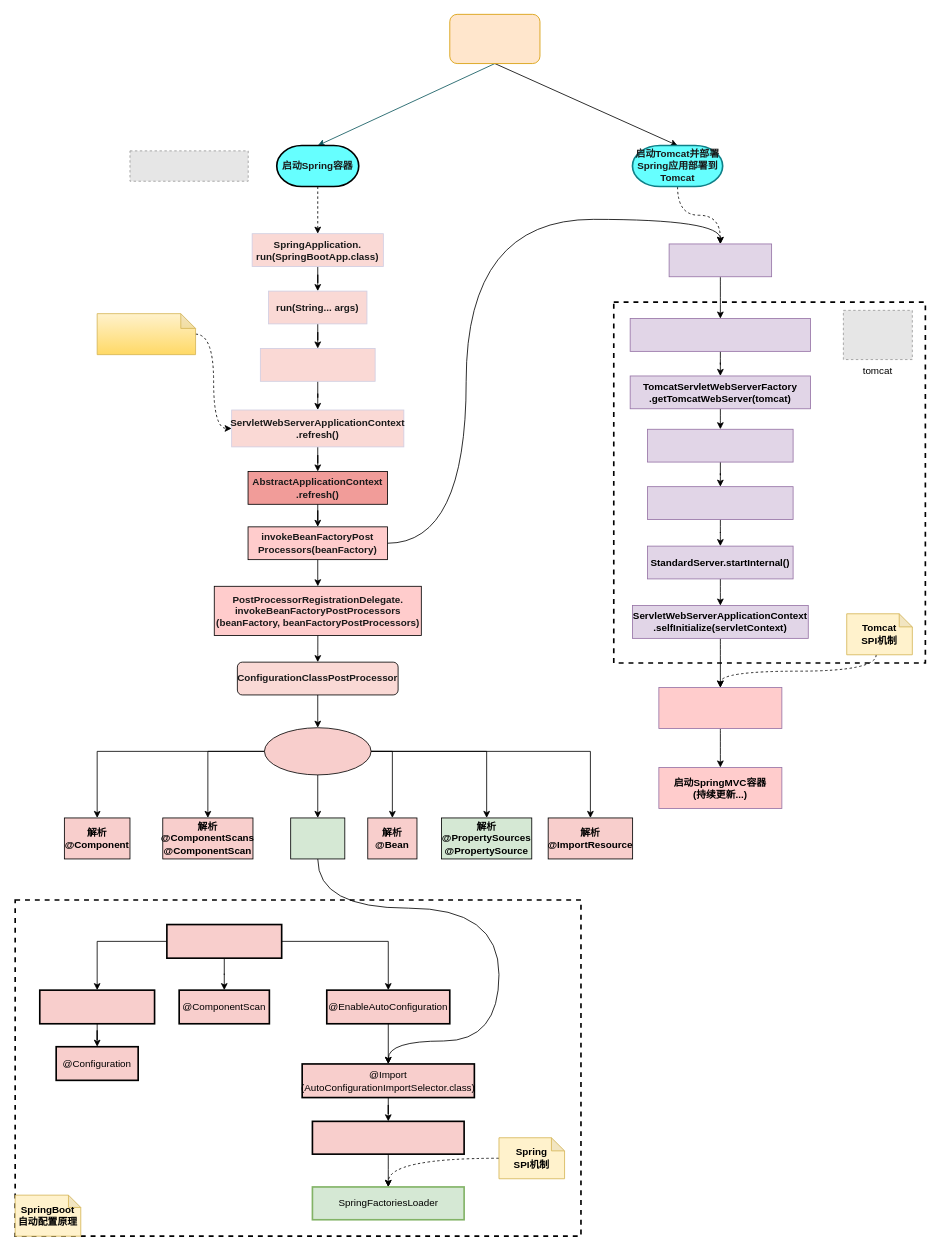
The diagram is 940 pixels wide and 1251 high, and some of its shapes have lost their labels. Grey dashed boxes stand in for pictures. The shapes that lost their labels are listed below. From the top down, each one's centre as x and y in pixels, then its label:
At (x=494, y=39): "SpringBoot 应用 启动".
At (x=720, y=260): "onRefresh()".
At (x=146, y=334): "Spring容器启动".
At (x=720, y=334): "ServletWebServerApplicationContext .createWebServer()".
At (x=317, y=364): "refreshContext(context)".
At (x=720, y=445): "TomcatWebServer.initialize()".
At (x=720, y=502): "Tomcat.start()".
At (x=720, y=708): "RegistrationBean. onStartup(servletContext)".
At (x=317, y=751): "ConfigurationClass Parser解析配置类总结".
At (x=317, y=838): "解析@Import".
At (x=224, y=941): "@SpringBootApplication".
At (x=97, y=1006): "@SpringBootConfiguration".
At (x=388, y=1137): "AutoConfigurationImportSelector. selectImports(annotationMetadata)".
